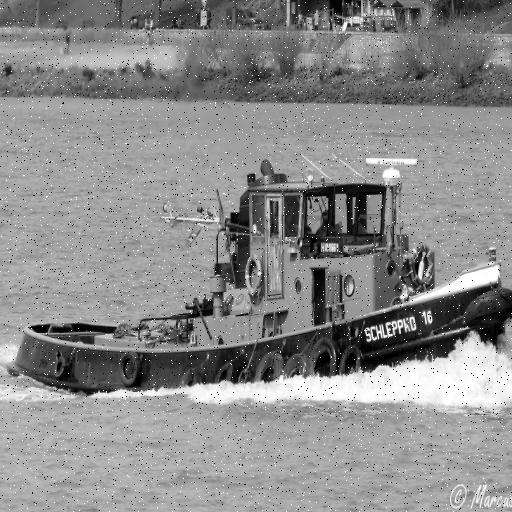tugboat: (1, 142, 512, 409)
